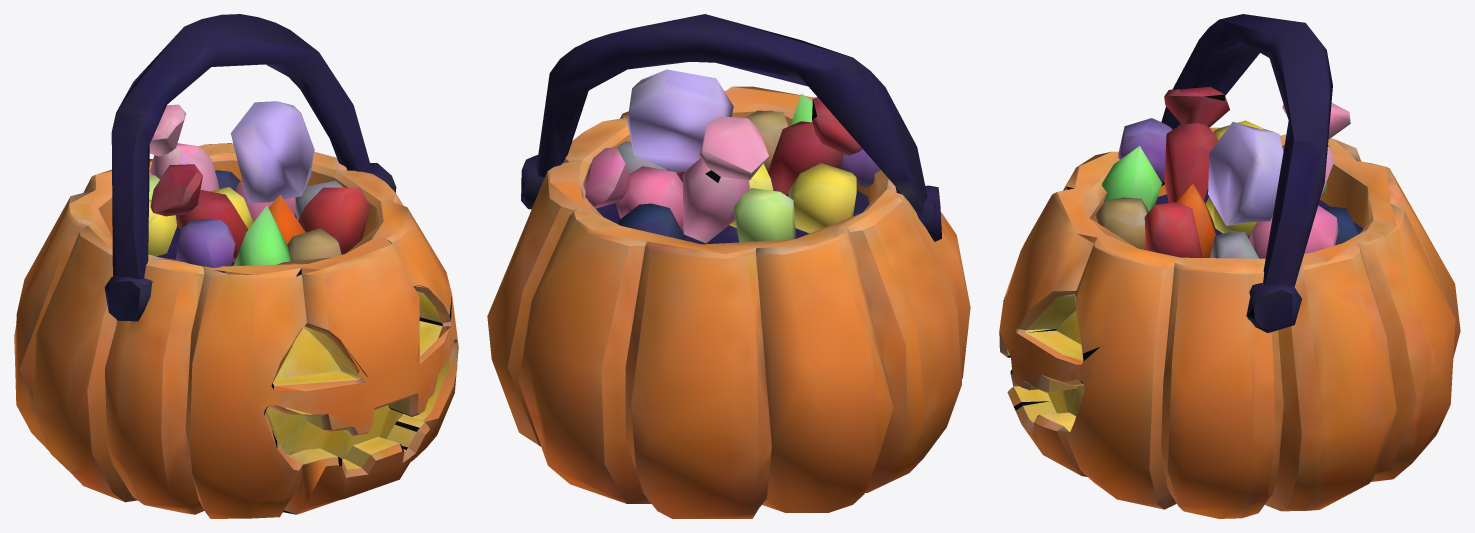
File: kit-candy-bucket.lod.glb
3 renders of one model, left to right at view 1: azimuth 30°, elevation 25°; view 2: azimuth 150°, elevation 25°; view 3: azimuth 270°, elevation 25°, orthographic. The views are drawn at different scales.
Parts seen in each view (by area): view 1: WBA_CandyBucket_Set_01_WBA_MAT_Halloween_Atlas_0.001; view 2: WBA_CandyBucket_Set_01_WBA_MAT_Halloween_Atlas_0.001; view 3: WBA_CandyBucket_Set_01_WBA_MAT_Halloween_Atlas_0.001.
Part boxes in pixels (bbox=[...]): WBA_CandyBucket_Set_01_WBA_MAT_Halloween_Atlas_0.001: bbox=[14, 14, 458, 518]; WBA_CandyBucket_Set_01_WBA_MAT_Halloween_Atlas_0.001: bbox=[487, 14, 970, 518]; WBA_CandyBucket_Set_01_WBA_MAT_Halloween_Atlas_0.001: bbox=[999, 14, 1460, 518].
Size of the model in its own units: 0.2628 by 0.2815 by 0.2733.
Materials: 1 (1 with a texture image).
